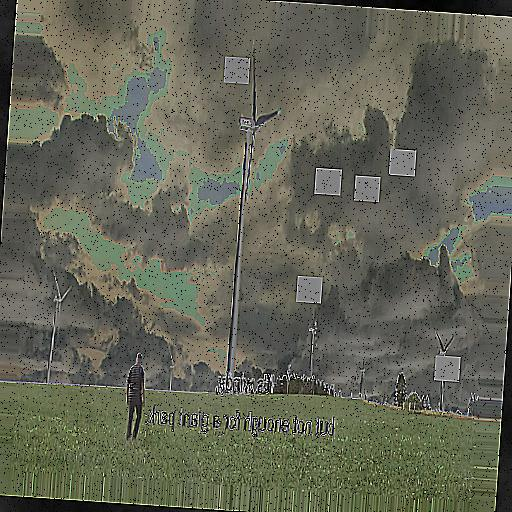wind turbine: (225, 47, 282, 382), (45, 268, 73, 384)
